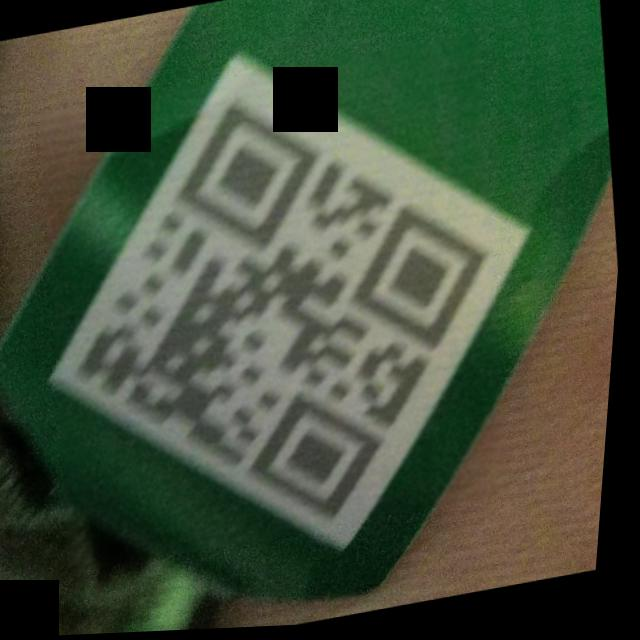QR_CODE: (14, 35, 543, 576)
